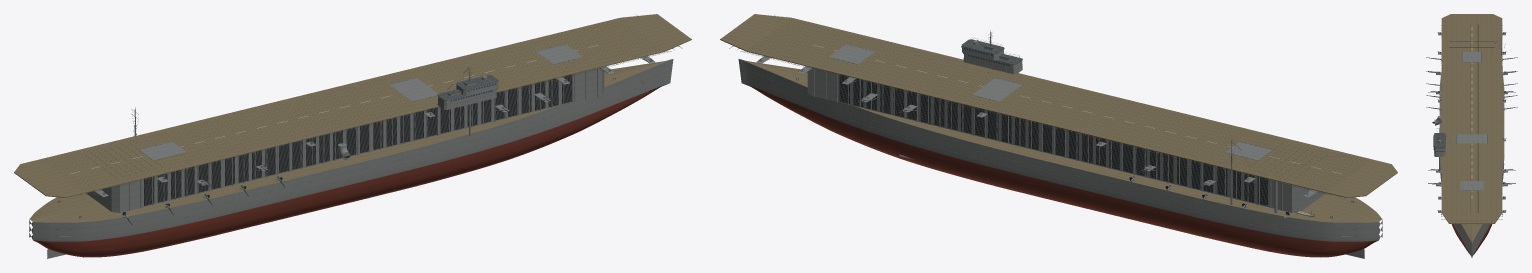
Rendered from demo-kaga1942.glb.
3 renders of one model, left to right at view 1: azimuth 30°, elevation 25°; view 2: azimuth 150°, elevation 25°; view 3: azimuth 270°, elevation 25°, orthographic. The views are drawn at different scales.
Visible parts, largest first — view 1: Kaga, rebuilt1935 / Midway1942; view 2: Kaga, rebuilt1935 / Midway1942; view 3: Kaga, rebuilt1935 / Midway1942.
Part boxes in pixels (x1,y1,x2,y2): Kaga, rebuilt1935 / Midway1942: (14,14,691,258); Kaga, rebuilt1935 / Midway1942: (720,14,1397,258); Kaga, rebuilt1935 / Midway1942: (1426,14,1517,257).
Bounding box in the file's own units: 249 × 42.58 × 46.05.
Materials: 10 (9 with a texture image).
